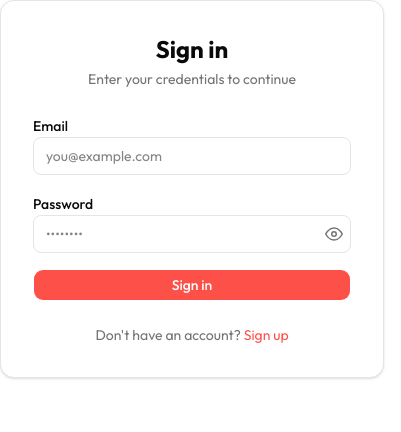
Test: LoginForm › shows error on invalid credentials
Type "bad@test.com" into the field labelled "Email" at (192, 156), box [33, 137, 351, 175]
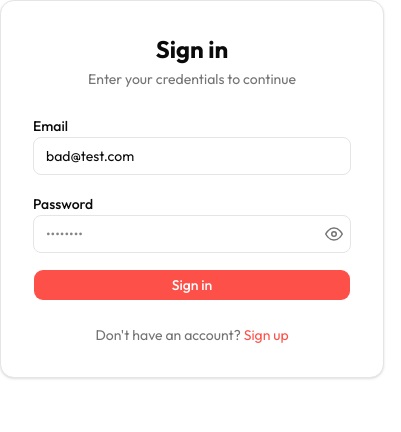
Type "wrong" into the password field labelled "Password" at (192, 234), box [33, 215, 351, 253]
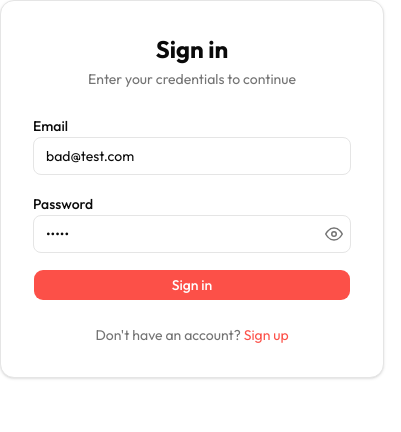
Submit the form "Email Password Sign in", box [33, 113, 351, 301]
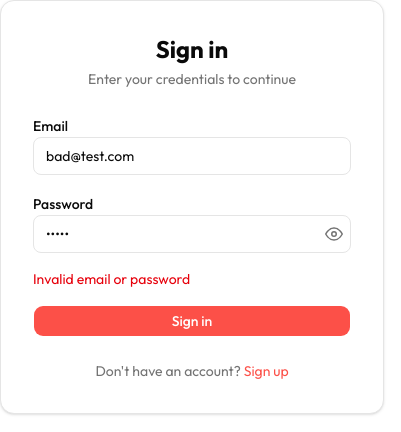
Expected: the text "Invalid email or password" is shown, [33, 270, 190, 288]
